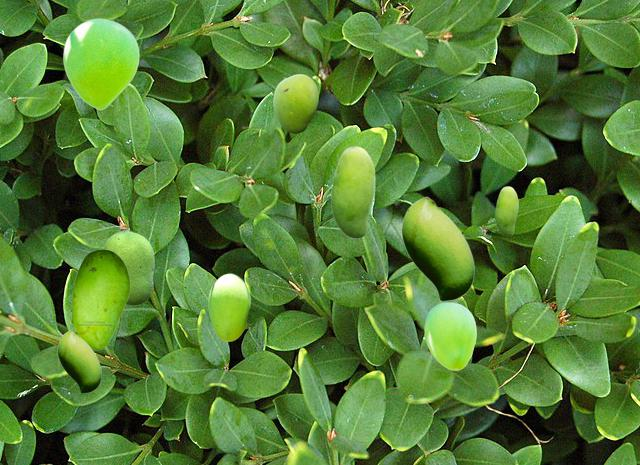green_mango: (401, 196, 473, 300), (63, 18, 138, 109), (70, 249, 129, 349), (102, 227, 153, 304), (331, 146, 374, 237), (424, 302, 475, 369), (208, 273, 249, 340), (57, 329, 100, 392), (273, 74, 317, 132), (495, 186, 517, 235)
